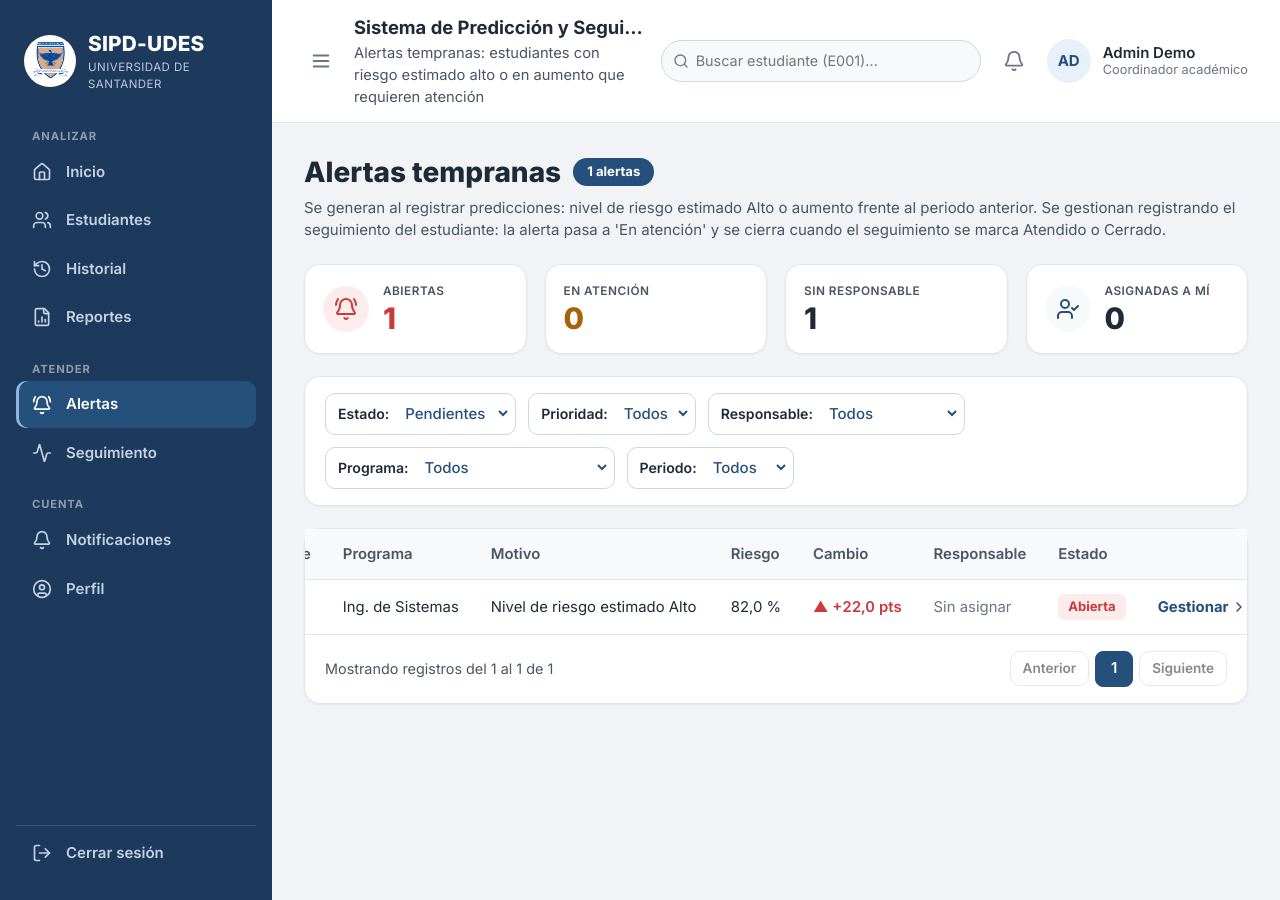
Test: Alertas tempranas › Gestionar lleva al seguimiento con el formulario abierto para el estudiante
What coordinates should you click on to do the following:
click the link "Gestionar"
I would click on:
 (1202, 607)
Its box is [1158, 596, 1247, 618].
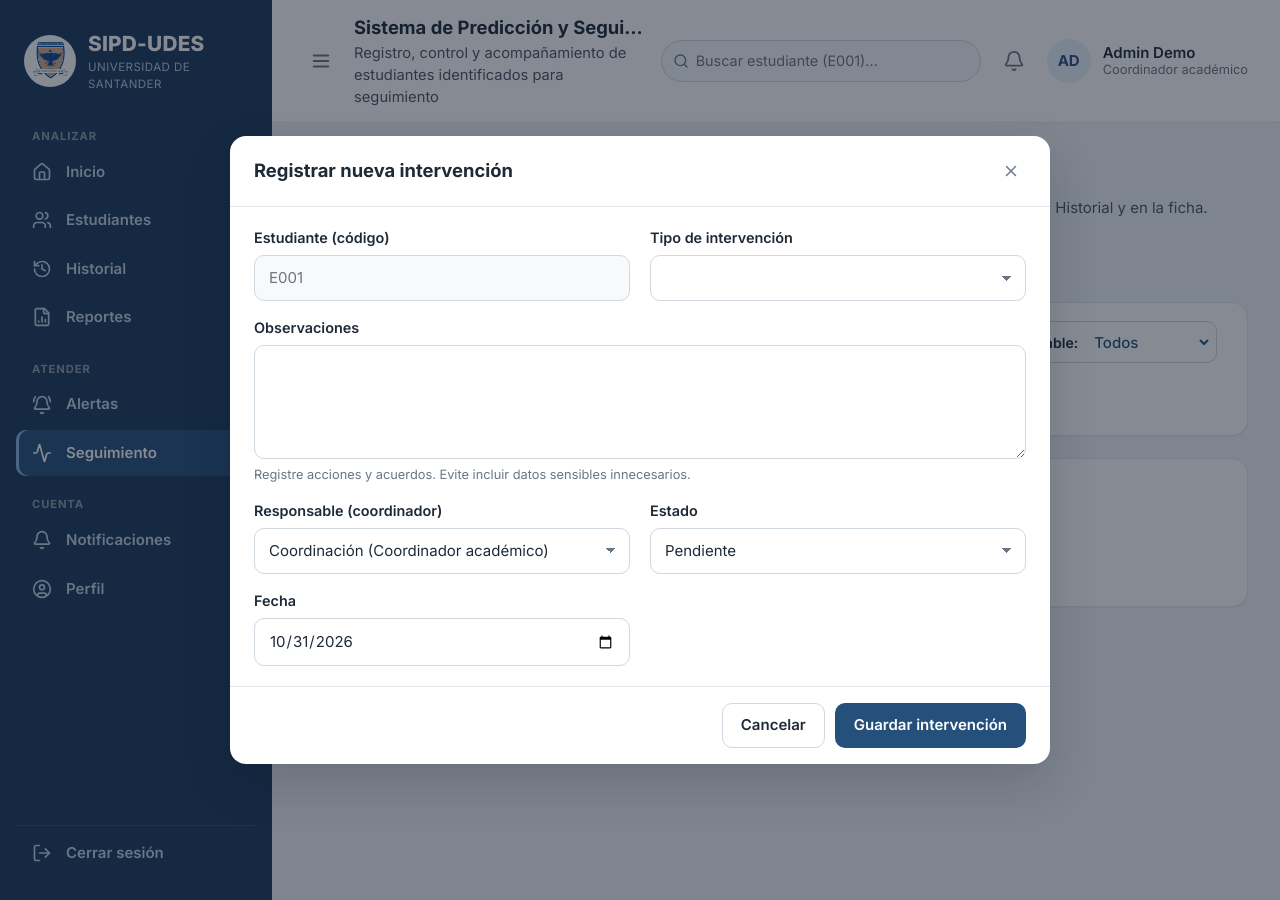
Expected: the field labelled "Estudiante (código)" holds "E001", [254, 255, 630, 301]
